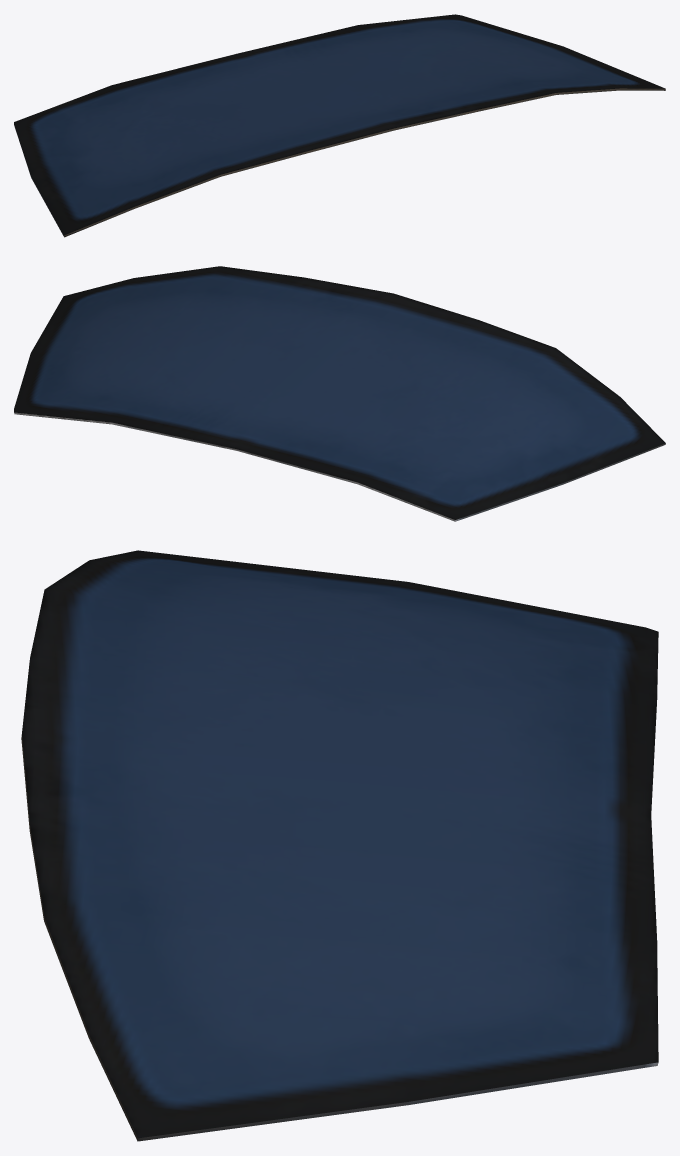
File: FordMustang90RearWindshield_WorldItem.fbx
The picture shows the model from 3 angles, top to bottom: view 1: azimuth 30°, elevation 25°; view 2: azimuth 150°, elevation 25°; view 3: azimuth 270°, elevation 25°; orthographic projection. The views are drawn at different scales.
Parts seen in each view (by area): view 1: RearWindshield_obj; view 2: RearWindshield_obj; view 3: RearWindshield_obj.
Part boxes in pixels (x1=…): RearWindshield_obj: x1=14, y1=14, x2=665, y2=237; RearWindshield_obj: x1=14, y1=266, x2=665, y2=521; RearWindshield_obj: x1=21, y1=550, x2=658, y2=1141.
Size of the model in its own units: 1.99 by 0.1839 by 0.9129.
